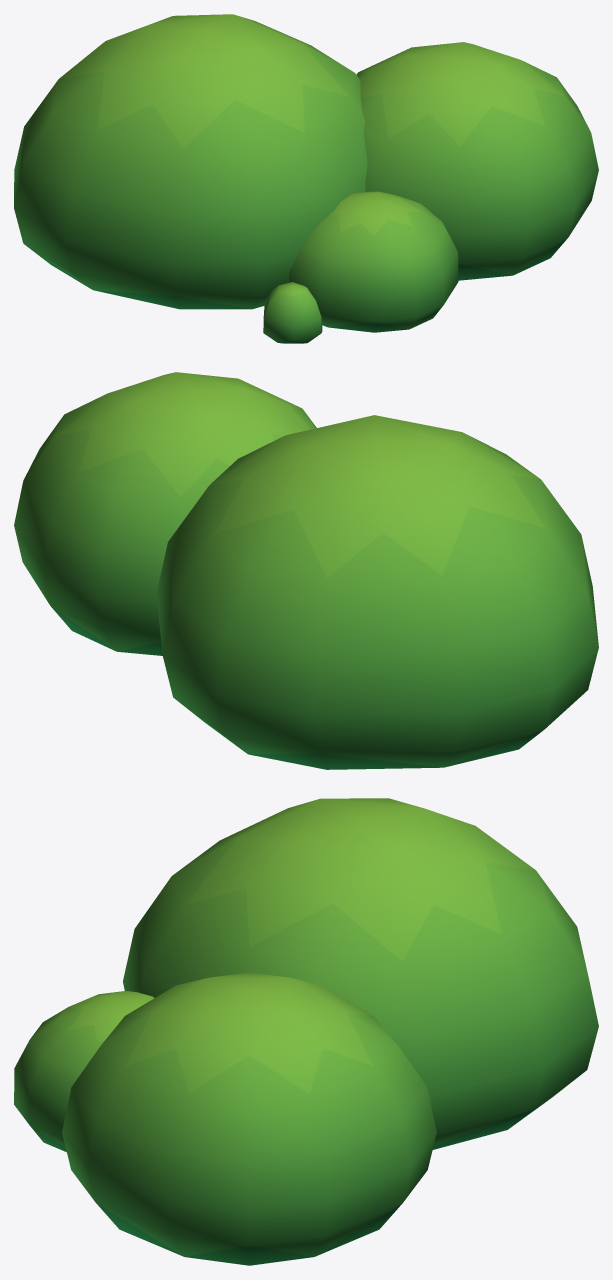
File: Rock1F.glb
3 views of the same model, one above another, from view 1: azimuth 30°, elevation 25°; view 2: azimuth 150°, elevation 25°; view 3: azimuth 270°, elevation 25° (orthographic). The views are drawn at different scales.
Parts seen in each view (by area): view 1: Bush_1_F_Color1; view 2: Bush_1_F_Color1; view 3: Bush_1_F_Color1.
Boxes of the visible parts, left/top/right/bottom form: Bush_1_F_Color1: left=14, top=14, right=598, bottom=343; Bush_1_F_Color1: left=14, top=372, right=598, bottom=769; Bush_1_F_Color1: left=14, top=798, right=598, bottom=1265.
Bounding box in the file's own units: 2.28 × 0.9937 × 1.88.
Materials: 1 (1 with a texture image).
